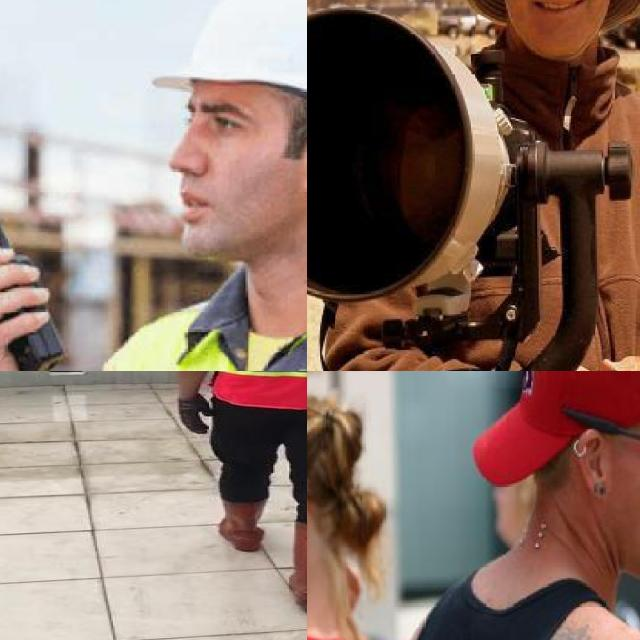No_Glasses: (175, 92, 262, 148)
boots: (216, 492, 266, 550), (287, 517, 307, 605)
face_nomask: (504, 0, 609, 32)
glasses: (559, 402, 640, 468)
hand_glove: (175, 396, 209, 435)
hand_noglove: (564, 344, 640, 371)
head_nohelmet: (307, 387, 383, 473)
person: (331, 0, 640, 371), (372, 371, 640, 640), (169, 371, 307, 621), (307, 389, 400, 640)
